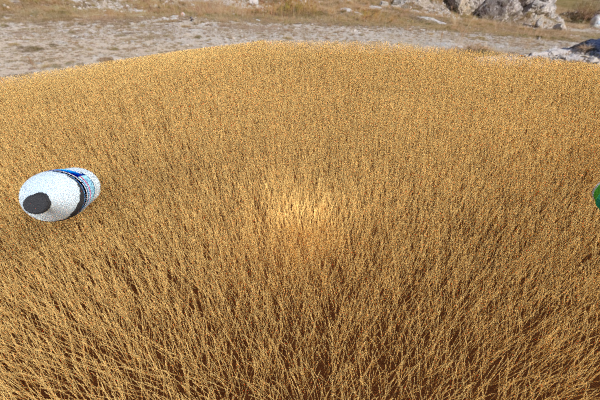Plastic Bottle: (18, 167, 100, 221), (591, 170, 600, 267)
